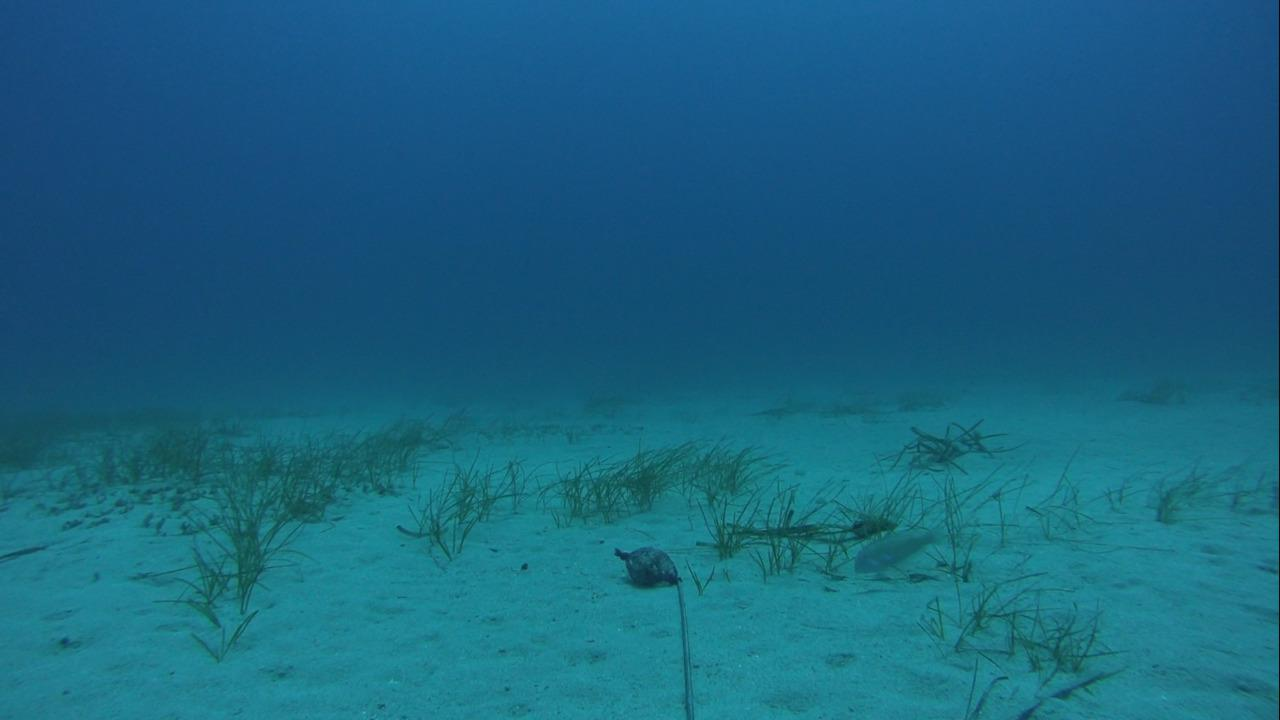raor: (850, 524, 939, 577)
